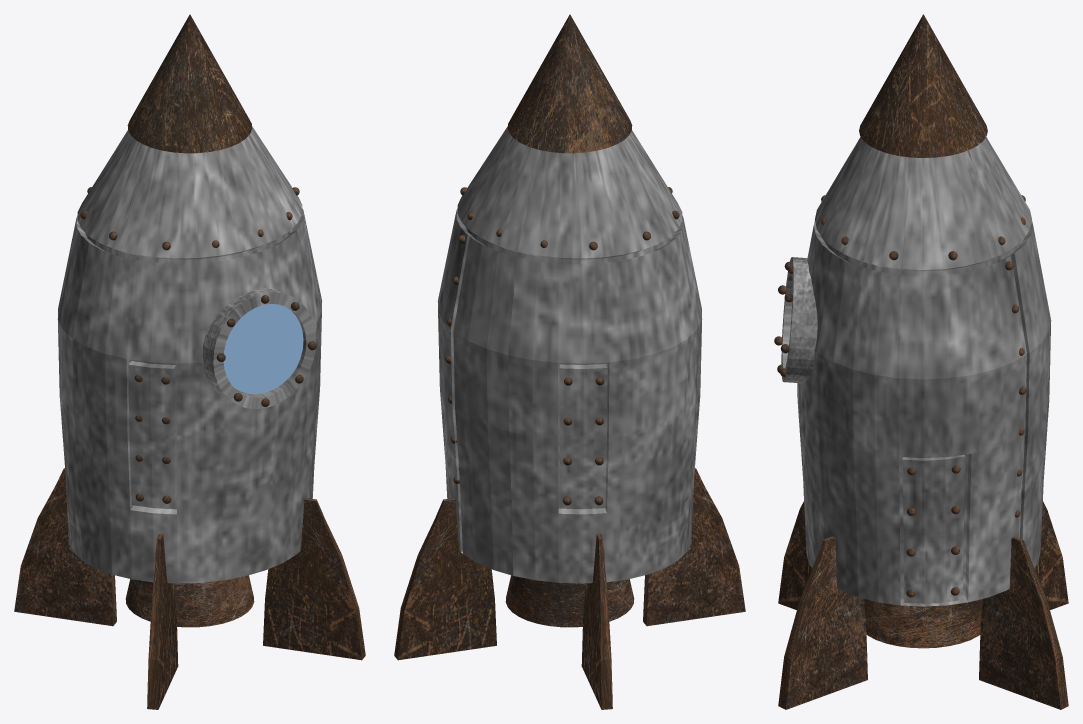
File: Rocket Closed.fbx
3 renders of one model, left to right at view 1: azimuth 30°, elevation 25°; view 2: azimuth 150°, elevation 25°; view 3: azimuth 270°, elevation 25°, orthographic. The views are drawn at different scales.
Parts seen in each view (by area): view 1: Cylinder.019, Cube.039, Cone.001, Cylinder.017, Cylinder.018, Cylinder.016; view 2: Cylinder.019, Cube.039, Cone.001, Cylinder.016; view 3: Cylinder.019, Cube.039, Cone.001, Cylinder.016, Cylinder.018.
Boxes of the visible parts, bbox=[...] form: Cylinder.019: bbox=[57, 126, 322, 583]; Cube.039: bbox=[14, 468, 365, 709]; Cone.001: bbox=[127, 14, 252, 153]; Cylinder.017: bbox=[223, 304, 303, 394]; Cylinder.018: bbox=[202, 288, 316, 409]; Cylinder.016: bbox=[125, 575, 254, 627]; Cylinder.019: bbox=[437, 126, 702, 583]; Cube.039: bbox=[394, 468, 745, 709]; Cone.001: bbox=[507, 14, 632, 153]; Cylinder.016: bbox=[505, 575, 634, 627]; Cylinder.019: bbox=[797, 137, 1051, 606]; Cube.039: bbox=[778, 501, 1068, 709]; Cone.001: bbox=[859, 14, 987, 157]; Cylinder.016: bbox=[864, 599, 982, 648]; Cylinder.018: bbox=[781, 257, 817, 383].
Bounding box in the file's own units: 330 × 832 × 346.
3 materials, 2 textured.
